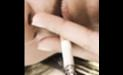Cigarette: (59, 35, 74, 75)
